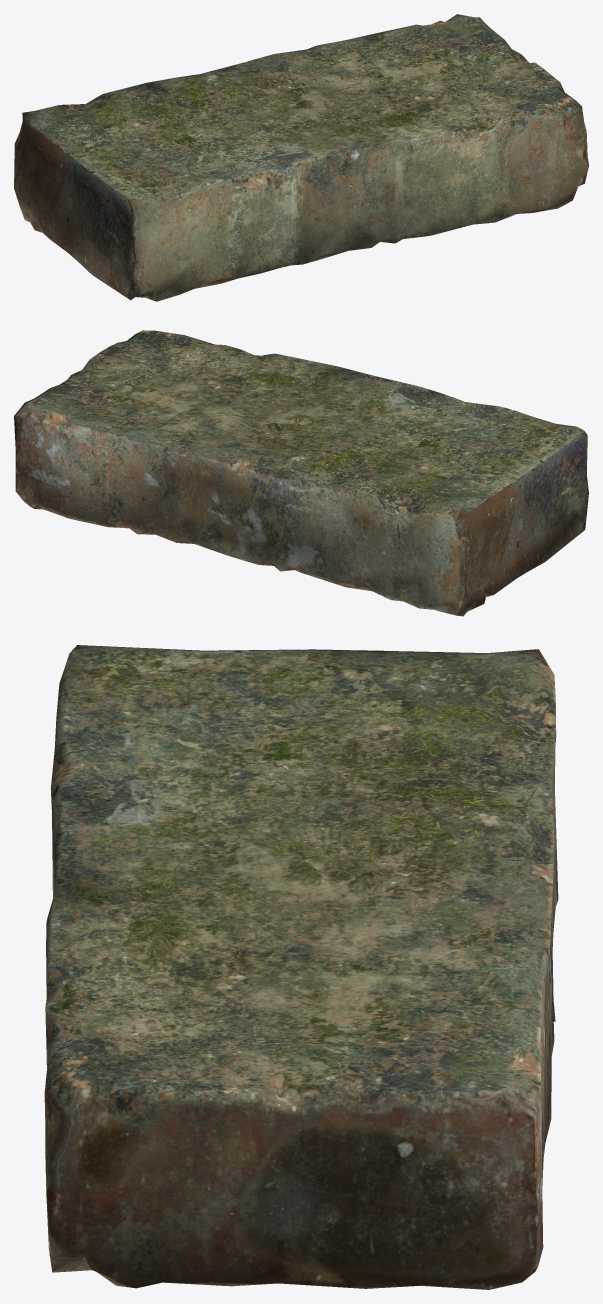
File: PX_Fired_brick_01_LOD5.fbx
3 renders of one model, top to bottom at view 1: azimuth 30°, elevation 25°; view 2: azimuth 150°, elevation 25°; view 3: azimuth 270°, elevation 25°, orthographic. The views are drawn at different scales.
Parts seen in each view (by area): view 1: PX_Fired_brick_01_LOD5; view 2: PX_Fired_brick_01_LOD5; view 3: PX_Fired_brick_01_LOD5.
Part boxes in pixels (left/top/right/bottom): PX_Fired_brick_01_LOD5: left=14, top=14, right=588, bottom=301; PX_Fired_brick_01_LOD5: left=14, top=330, right=588, bottom=616; PX_Fired_brick_01_LOD5: left=44, top=645, right=558, bottom=1289.
Bounding box in the file's own units: 26.81 × 6.12 × 13.02.
